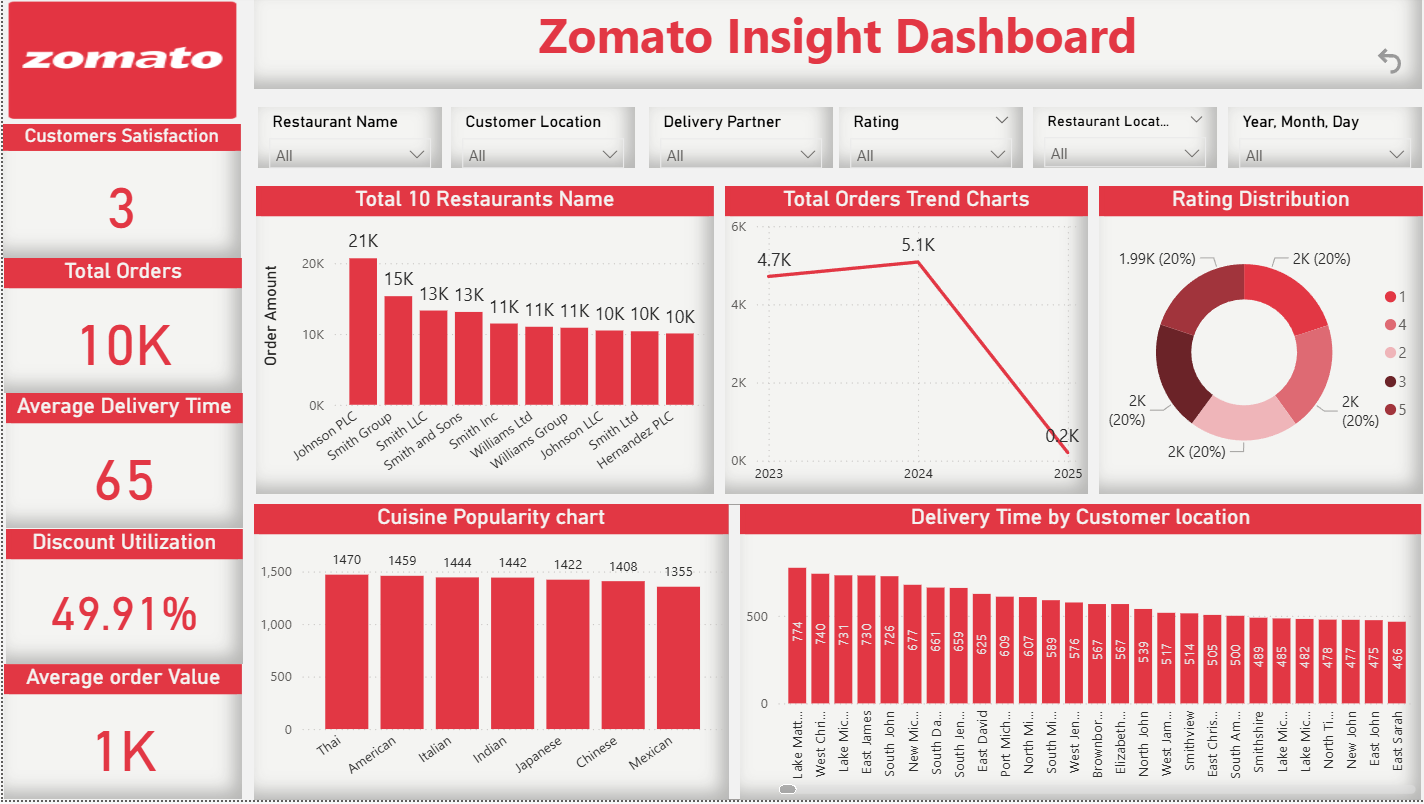

What the dashboard file says about the page in this screenshot:
{"tool":"powerbi","page":{"name":"Zomato Insight Dashboard","canvas":[1280,720],"ordinal":0},"visuals":[{"type":"image","box":[0,0,214,114.9],"z":0},{"type":"card","title":"Total Orders","fields":{"Values":["Count(Data.Order_ID)"]},"box":[1.1,235.3,213.3,120.9],"z":0,"group":"g2"},{"type":"textbox","box":[225,0,1045.5,83.2],"z":1000},{"type":"card","title":"Average Delivery Time","fields":{"Values":["Avg(Data.Delivery_Time_Minutes)"]},"box":[2.6,356.1,211.9,120.9],"z":1000,"group":"g2"},{"type":"group","id":"g1","title":"Group 1","box":[227.9,99.4,1042.6,55],"z":2000},{"type":"card","title":"Average order Value","fields":{"Values":["Avg(Data.Order_Amount)"]},"box":[1.1,598.5,213.3,120.9],"z":2000,"group":"g2"},{"type":"group","id":"g2","title":"Group 2","box":[0,114.9,214.5,604.5],"z":3000},{"type":"card","title":"Customers Satisfaction","fields":{"Values":["Avg(Data.Rating)"]},"box":[0,114.9,212.8,119.8],"z":3000,"group":"g2"},{"type":"group","id":"g3","title":"Group 4","box":[224.7,455.1,1045.2,264.5],"z":4000},{"type":"card","title":"Discount Utilization","fields":{"Values":["Data.Discount Utilization (%%)"]},"box":[2.6,477.3,211.9,120.9],"z":4000,"group":"g2"},{"type":"group","id":"g4","title":"Group 5","box":[226.7,170.6,1045.2,275.9],"z":5000},{"type":"lineChart","title":"Total Orders Trend Charts ","fields":{"Category":["Data.Order_Date.Variation.Date Hierarchy.Year"],"Y":["CountNonNull(Data.Order_ID)"]},"box":[646.3,170.6,325,275.9],"z":5000,"group":"g5"},{"type":"actionButton","box":[1226.3,41.8,53.4,31.7],"z":6000},{"type":"columnChart","title":"Delivery Time by Customer location","fields":{"Category":["Data.Customer_Location"],"Y":["Sum(Data.Delivery_Time_Minutes)"]},"box":[659.9,455.1,610,264.5],"z":6000,"group":"g3"},{"type":"clusteredColumnChart","title":"Total 10 Restaurants Name","fields":{"Y":["Sum(Data.Order_Amount)"],"Category":["Data.Restaurant_Name"]},"box":[226.7,170.6,410,275.9],"z":7000,"group":"g5"},{"type":"donutChart","title":"Rating Distribution","fields":{"Category":["Data.Rating"],"Y":["CountNonNull(Data.Order_ID)"]},"box":[981.9,170.6,290,275.9],"z":8000,"group":"g5"},{"type":"columnChart","title":"Cuisine Popularity chart","fields":{"Category":["Data.Cuisine"],"Y":["CountNonNull(Data.Order_ID)"]},"box":[224.7,455.1,425.2,264.5],"z":9000,"group":"g3"},{"type":"slicer","fields":{"Values":["Data.Restaurant_Name"]},"box":[227.9,99.4,165,55],"z":12000,"group":"g1"},{"type":"slicer","fields":{"Values":["Data.Customer_Location"]},"box":[401.1,99.4,165.1,55],"z":13000,"group":"g1"},{"type":"slicer","fields":{"Values":["Data.Delivery_Partner"]},"box":[578.4,99.4,165.1,55],"z":14000,"group":"g1"},{"type":"slicer","fields":{"Values":["Data.Rating"]},"box":[748.3,99.4,165.1,55],"z":15000,"group":"g1"},{"type":"slicer","fields":{"Values":["Data.Restaurant_Location"]},"box":[922,99.4,165.1,55],"z":16000,"group":"g1"},{"type":"slicer","fields":{"Values":["Data.Order_Date.Variation.Date Hierarchy.Year","Data.Order_Date.Variation.Date Hierarchy.Month","Data.Order_Date.Variation.Date Hierarchy.Day"]},"box":[1096.8,99.4,173.6,55],"z":17000,"group":"g1"},{"type":"group","id":"g5","title":"Group 3","box":[226.7,170.6,1045.2,275.9],"z":17007,"group":"g4"}]}

Visuals, with their boxes in screenshot pixels (x1, y1, x2, y2), scaled from the page's 1280x720 canvas onto the 1424x804 screenshot:
image: detection(0, 0, 238, 128)
"Total Orders" card: detection(1, 263, 239, 398)
textbox: detection(250, 0, 1413, 93)
"Average Delivery Time" card: detection(3, 398, 239, 533)
"Group 1" group: detection(254, 111, 1413, 172)
"Average order Value" card: detection(1, 668, 239, 803)
"Group 2" group: detection(0, 128, 239, 803)
"Customers Satisfaction" card: detection(0, 128, 237, 262)
"Group 4" group: detection(250, 508, 1413, 803)
"Discount Utilization" card: detection(3, 533, 239, 668)
"Group 5" group: detection(252, 191, 1415, 499)
"Total Orders Trend Charts " lineChart: detection(719, 191, 1081, 499)
actionButton: detection(1364, 47, 1423, 82)
"Delivery Time by Customer location" columnChart: detection(734, 508, 1413, 803)
"Total 10 Restaurants Name" clusteredColumnChart: detection(252, 191, 708, 499)
"Rating Distribution" donutChart: detection(1092, 191, 1415, 499)
"Cuisine Popularity chart" columnChart: detection(250, 508, 723, 803)
slicer - Data.Restaurant_Name: detection(254, 111, 437, 172)
slicer - Data.Customer_Location: detection(446, 111, 630, 172)
slicer - Data.Delivery_Partner: detection(643, 111, 827, 172)
slicer - Data.Rating: detection(832, 111, 1016, 172)
slicer - Data.Restaurant_Location: detection(1026, 111, 1209, 172)
slicer - Data.Order_Date.Variation.Date Hierarchy.Year x Data.Order_Date.Variation.Date Hierarchy.Month: detection(1220, 111, 1413, 172)
"Group 3" group: detection(252, 191, 1415, 499)
